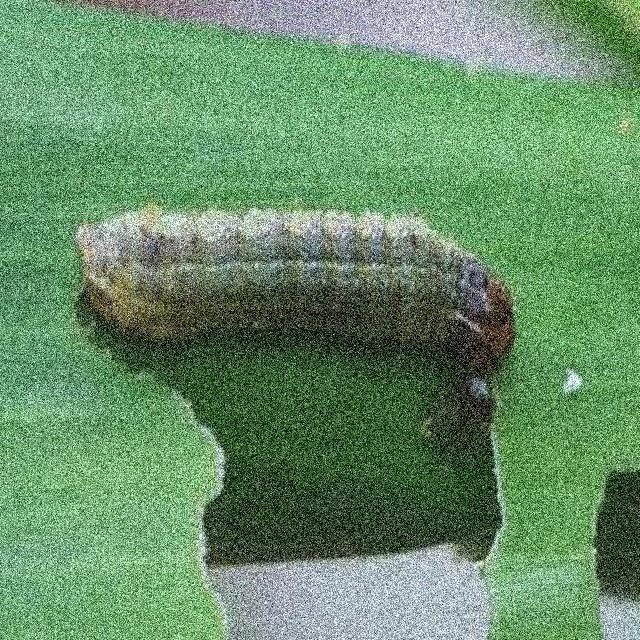gusano_cogollero: (79, 192, 512, 370)
